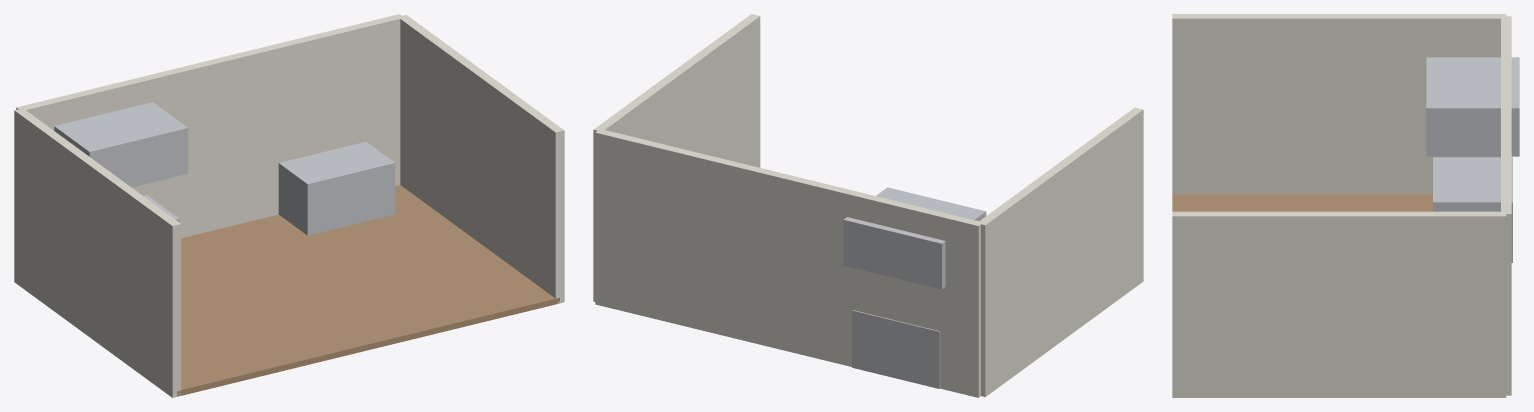
Rendered from commercial_kitchen.glb.
3 views of the same model, side by side, from view 1: azimuth 30°, elevation 25°; view 2: azimuth 150°, elevation 25°; view 3: azimuth 270°, elevation 25° (orthographic). The views are drawn at different scales.
Visible parts, largest first — view 1: floor, back, left, right, sink, hood; view 2: back, left, right, hood, range; view 3: right, left, hood, floor, range, back.
Part boxes in pixels (<box>): floor: <box>177,185,559,396</box>; back: <box>16,14,403,238</box>; left: <box>14,108,181,397</box>; right: <box>398,15,564,304</box>; sink: <box>278,141,395,235</box>; hood: <box>54,102,188,187</box>; back: <box>595,129,982,397</box>; left: <box>978,107,1143,396</box>; right: <box>593,14,760,301</box>; hood: <box>843,187,986,289</box>; range: <box>852,310,940,388</box>; right: <box>1172,211,1506,397</box>; left: <box>1172,14,1506,193</box>; hood: <box>1426,57,1519,156</box>; floor: <box>1172,194,1432,211</box>; range: <box>1433,157,1512,262</box>; back: <box>1501,16,1511,395</box>.
Bounding box in the file's own units: 7.16 × 3 × 5.2.
